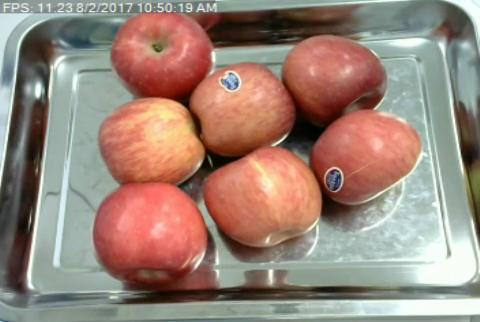apple: (94, 183, 210, 286), (206, 146, 323, 247), (315, 111, 422, 205), (99, 97, 206, 185), (193, 62, 296, 149), (110, 13, 213, 94), (281, 35, 387, 112)
